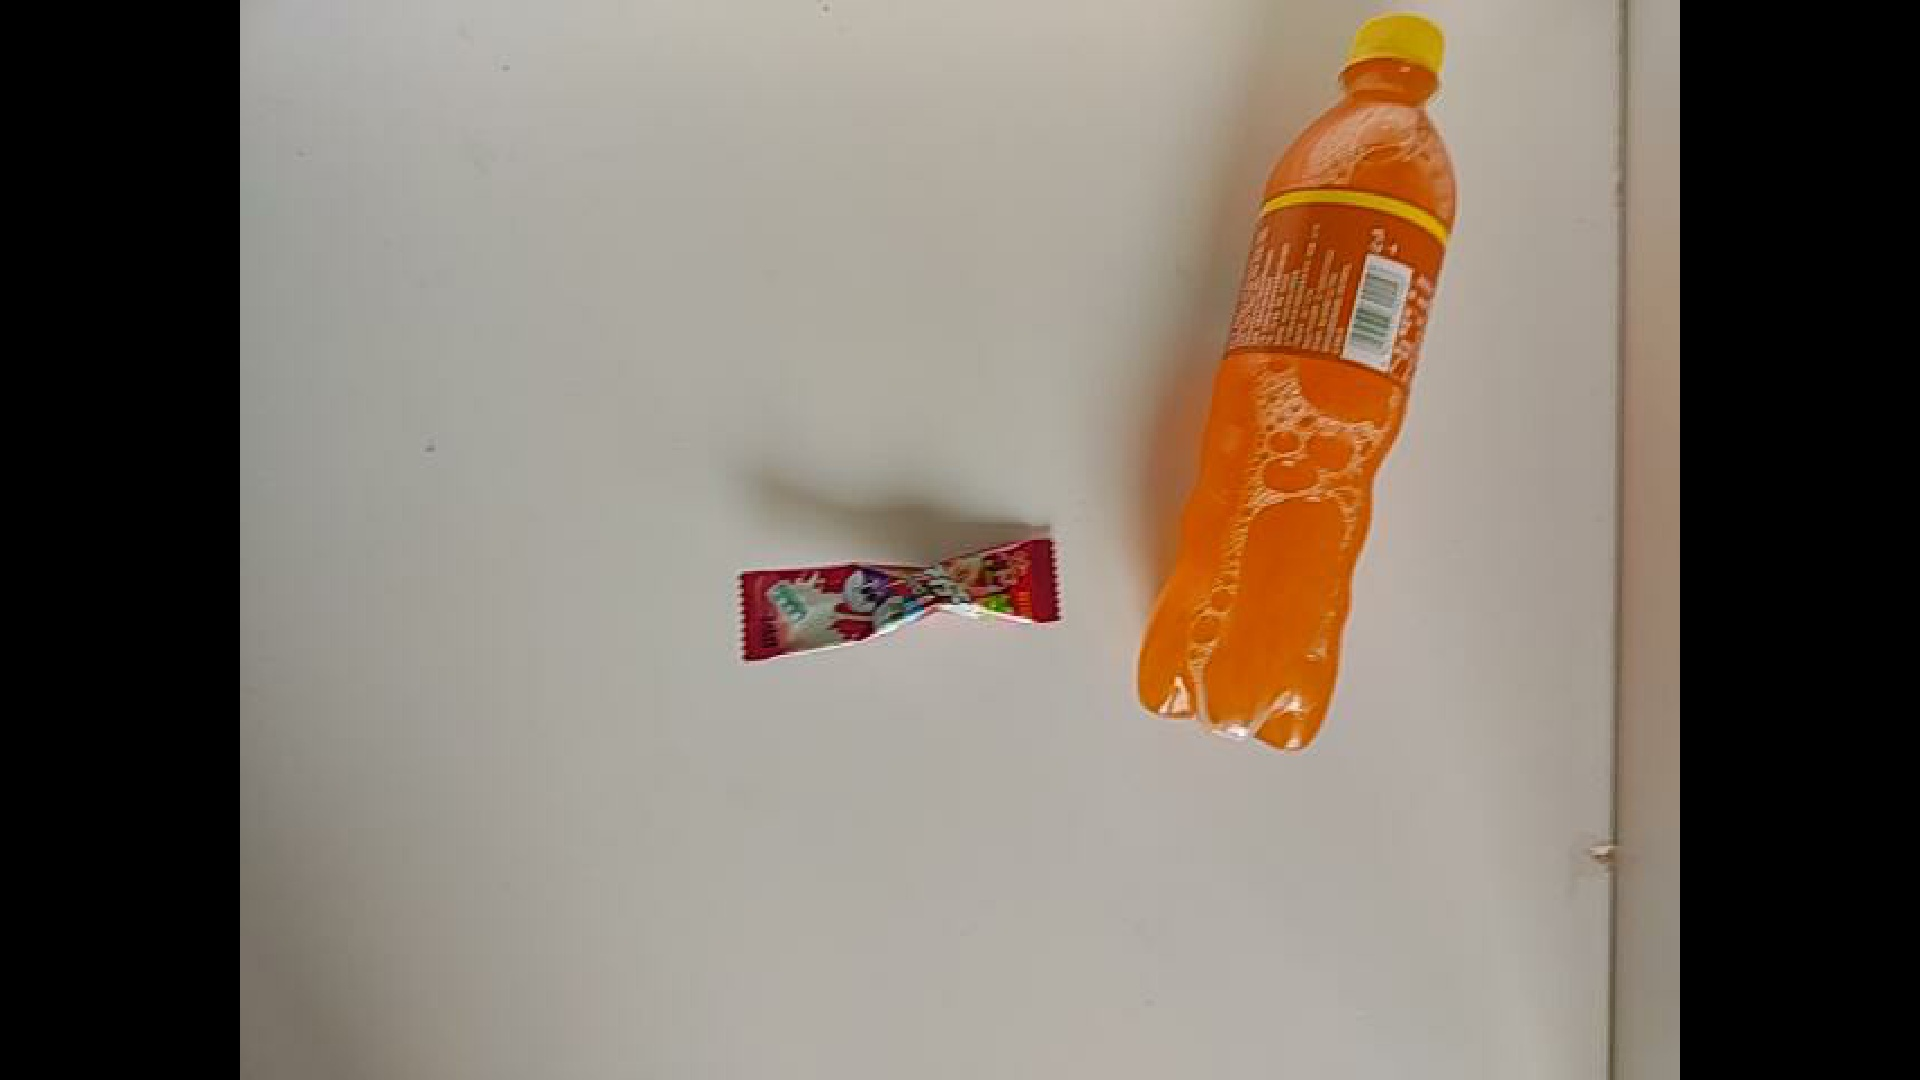fenta: (1137, 15, 1458, 756)
sugar: (735, 534, 1063, 665)
